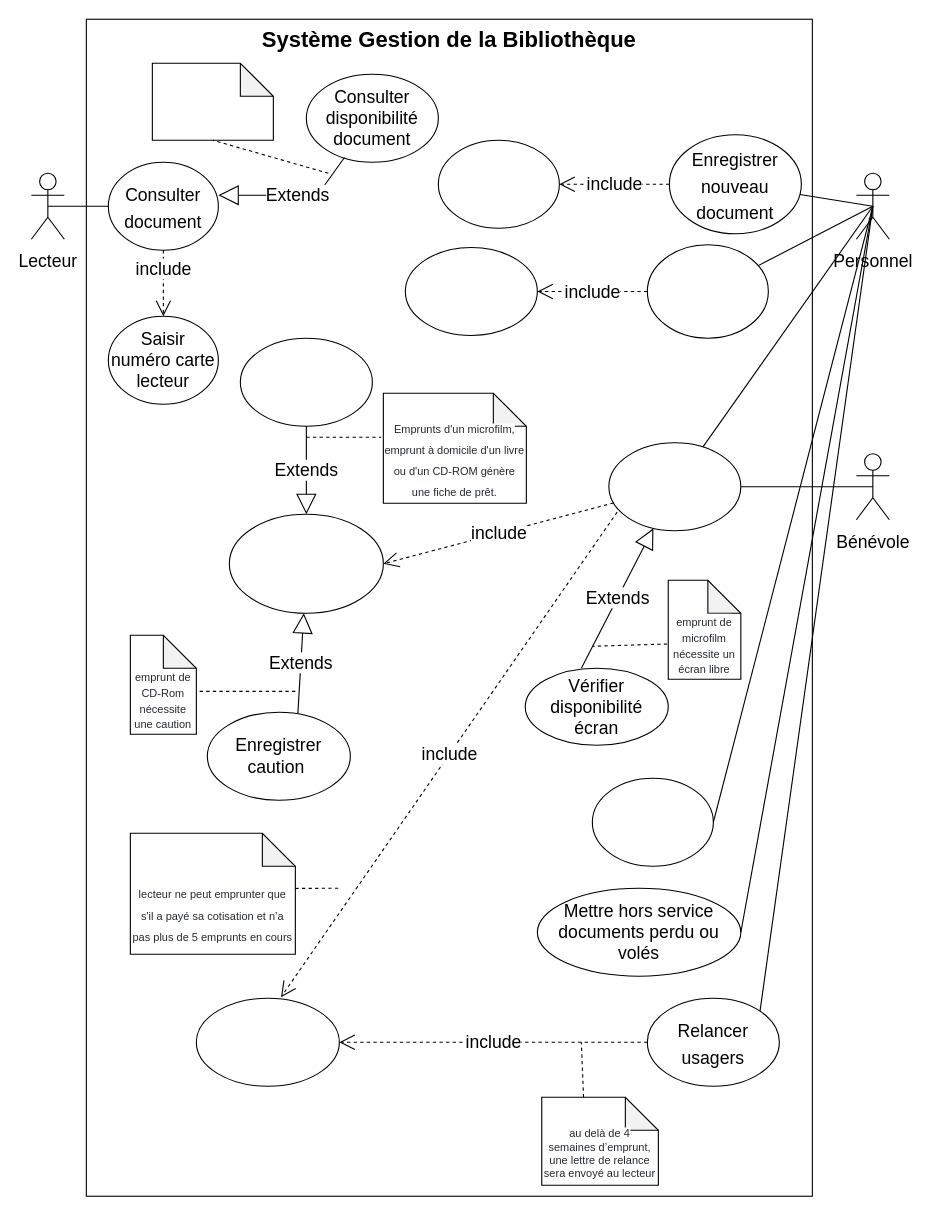
This 932x1216 diagram has some shape labels left out. The shapes that lost their labels are listed below. From the top down, each one's box as (x1, y1, x2, y2) in pixels, then its label:
(151, 62, 273, 140): Documents peuvent être trouvé selon plusieurs critères
(437, 139, 559, 228): Incrémenter côte document
(404, 246, 537, 336): Incrémenter numéro lecteur
(646, 244, 768, 338): Inscrire nouveau usager
(239, 337, 372, 426): Génèrer fiche de prêt
(608, 442, 741, 531): Prêter documents
(228, 513, 383, 613): Enregistrer numéro lecteur et côte document
(591, 777, 713, 866): Modifier adresse usager
(195, 997, 339, 1086): Consulter état usagers
